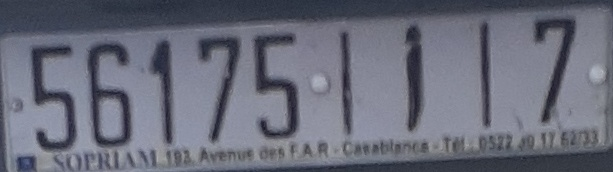1: (145, 39, 179, 149)
5: (28, 42, 79, 151), (252, 29, 301, 142)
6: (85, 39, 134, 149)
7: (529, 13, 579, 127), (194, 33, 243, 145)
a: (400, 18, 426, 135)
